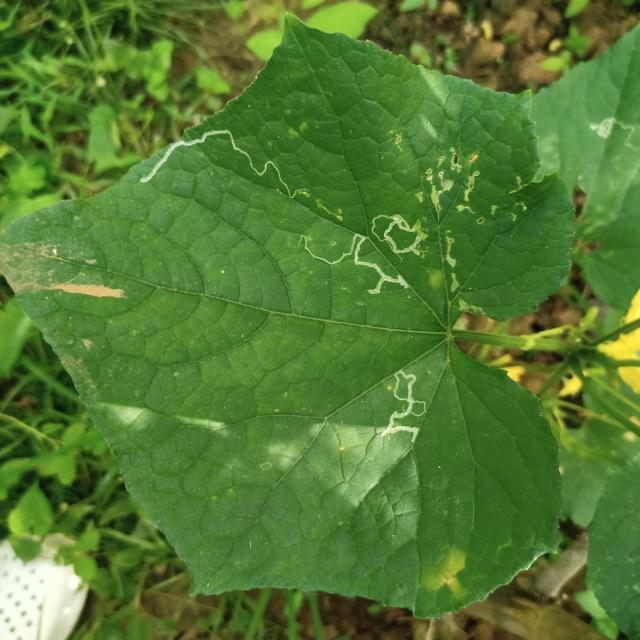disease_cucumber: (430, 552, 468, 602)
